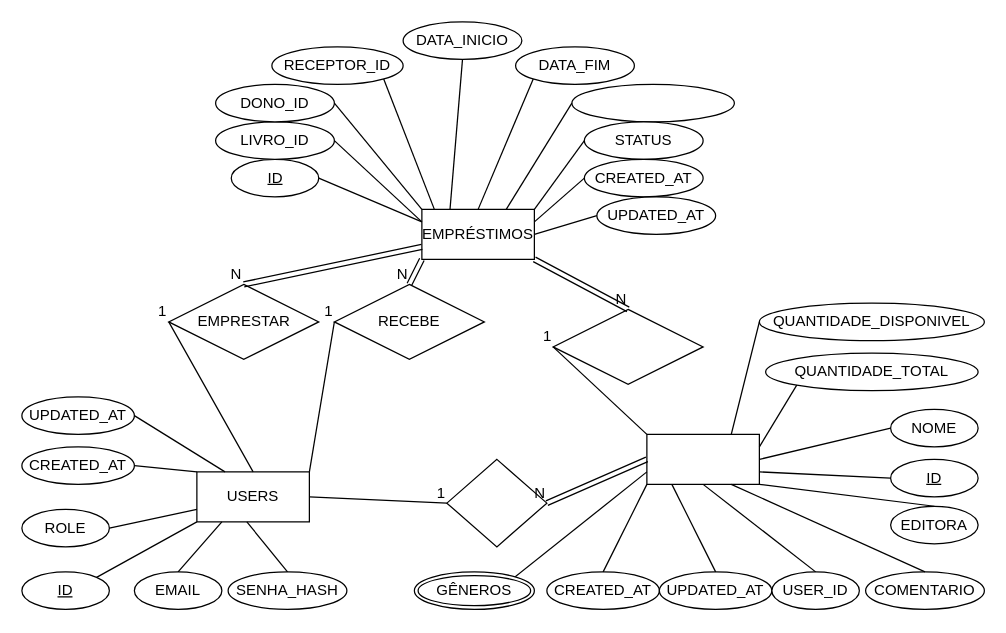
Some shapes in this 1006 by 633 pixel diagram are drawn without their labels. Here are the shapes that lost their labels. From the top down, the centre of each, then its label:
pixel 652 102: DATA_DEVOLUCAO
pixel 627 346: POSSUI
pixel 702 458: LIVROS
pixel 496 502: CADASTRA
